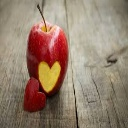apple: (26, 23, 69, 99)
